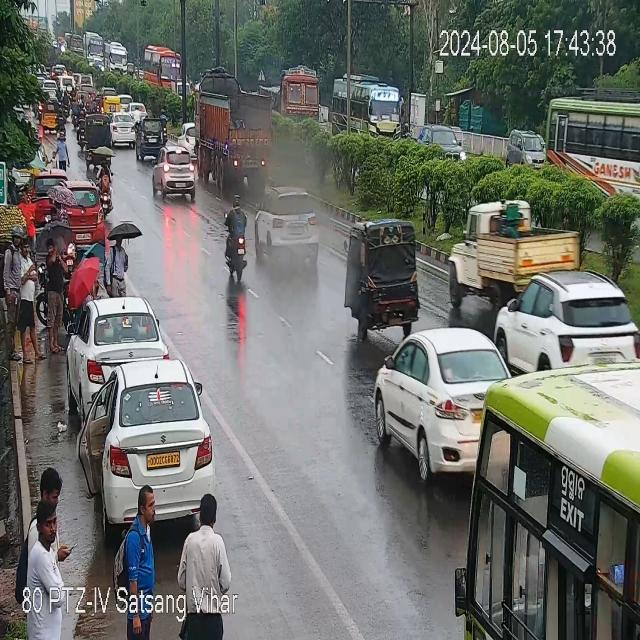2-wheelers: (224, 195, 247, 280), (101, 157, 112, 216), (57, 88, 68, 130), (76, 111, 86, 148), (74, 94, 99, 108), (160, 110, 169, 140), (134, 106, 140, 131)
auto: (344, 204, 416, 338), (82, 115, 110, 167), (42, 93, 57, 132), (101, 96, 124, 114)
bus: (460, 376, 640, 640), (544, 88, 638, 206), (331, 81, 405, 144), (145, 44, 180, 87), (104, 41, 128, 75), (84, 32, 104, 66), (65, 35, 84, 59)
car: (78, 359, 217, 530), (377, 336, 505, 484), (496, 272, 639, 370), (64, 295, 152, 391), (255, 190, 319, 254), (154, 144, 193, 202), (74, 176, 106, 240), (506, 130, 544, 172), (34, 162, 66, 205), (425, 126, 462, 162), (134, 118, 167, 157), (109, 112, 139, 144), (178, 118, 194, 158), (129, 102, 145, 120), (58, 75, 74, 88), (76, 73, 92, 85)
pedestrian: (182, 497, 235, 634), (23, 510, 77, 600), (4, 230, 40, 364), (120, 493, 160, 595), (44, 236, 69, 354), (105, 226, 129, 294), (20, 189, 36, 235), (46, 200, 66, 225), (57, 133, 68, 167)
truck: (448, 205, 580, 297), (197, 67, 272, 191), (270, 68, 320, 124)
